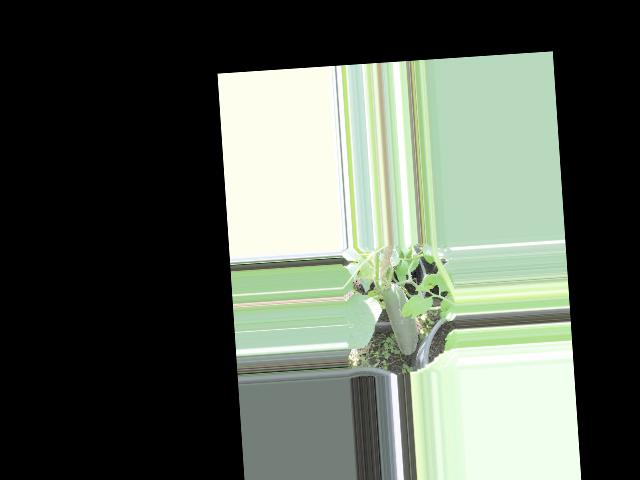cucumber: (381, 281, 419, 356)
